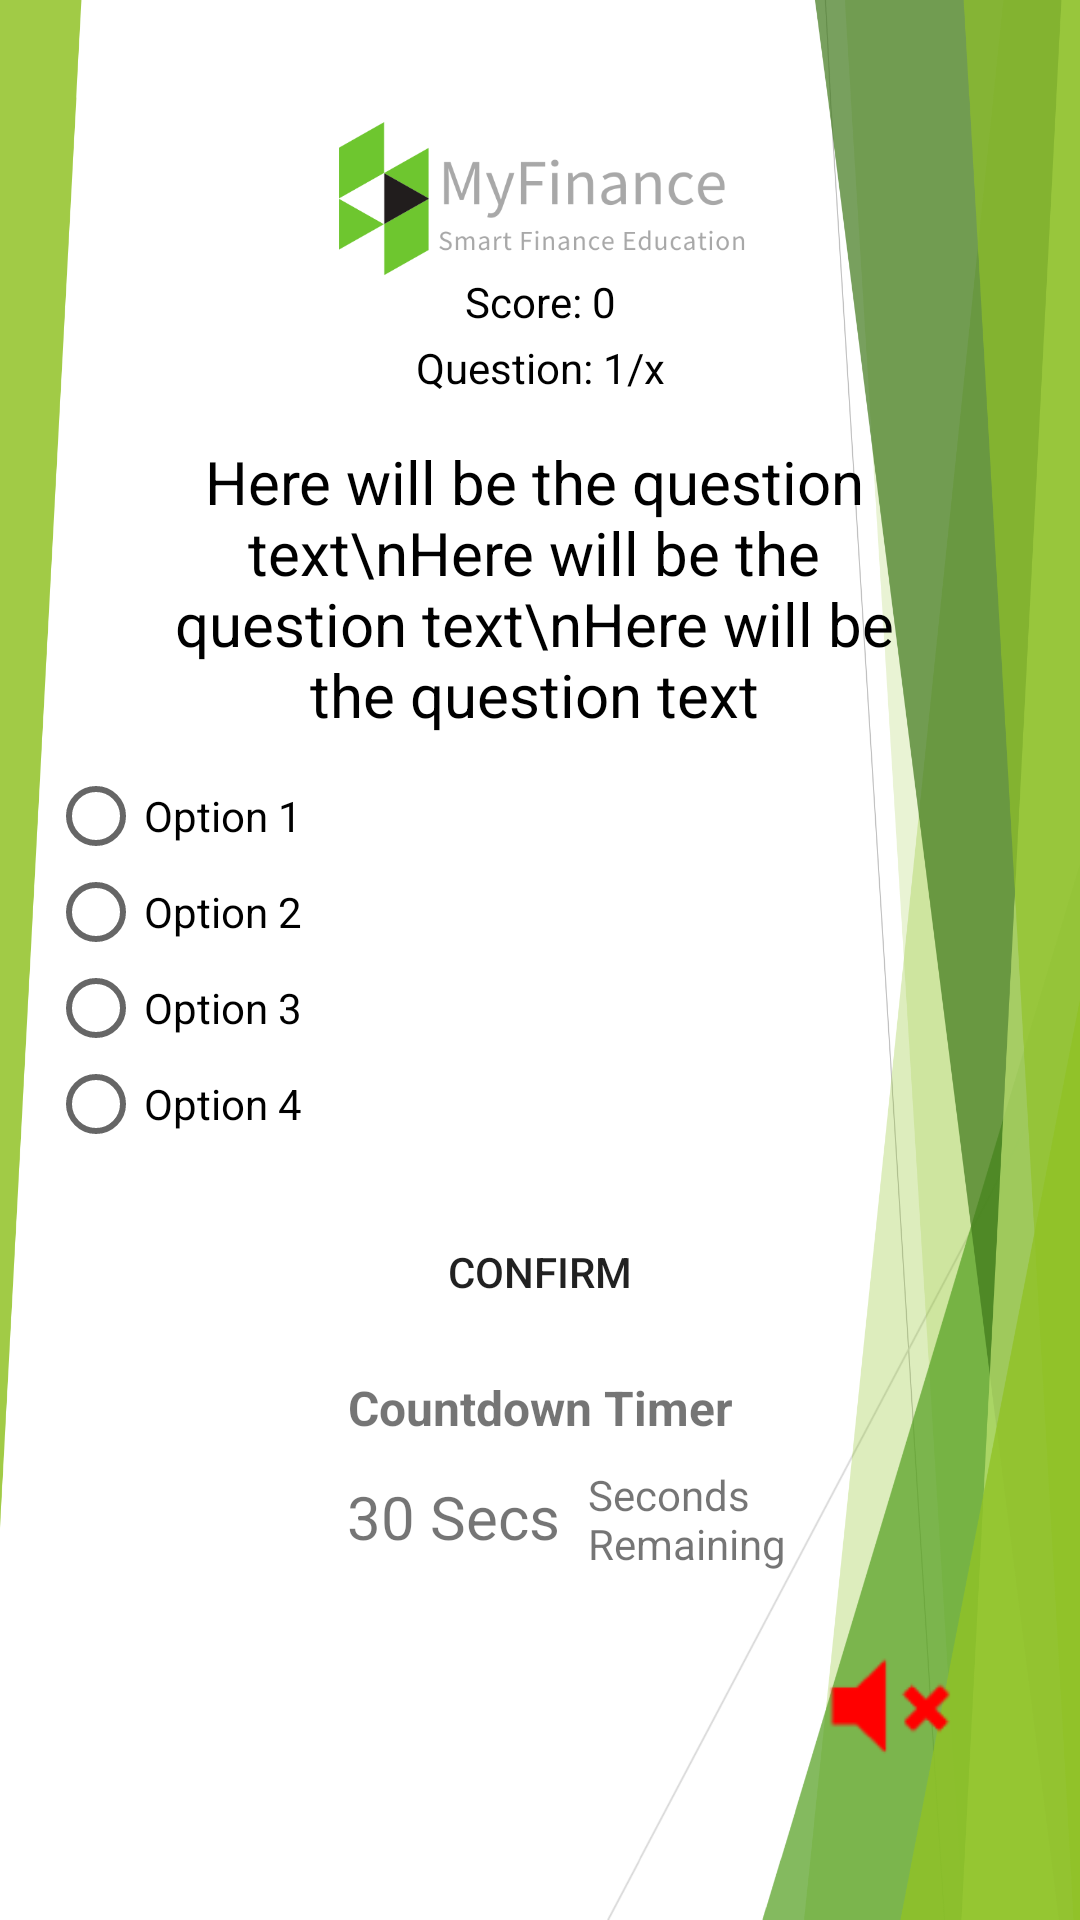

Point at icon controls on the screen. Image size 1080*1920, points as [x,y].
lock silent mode: [894,1704]
